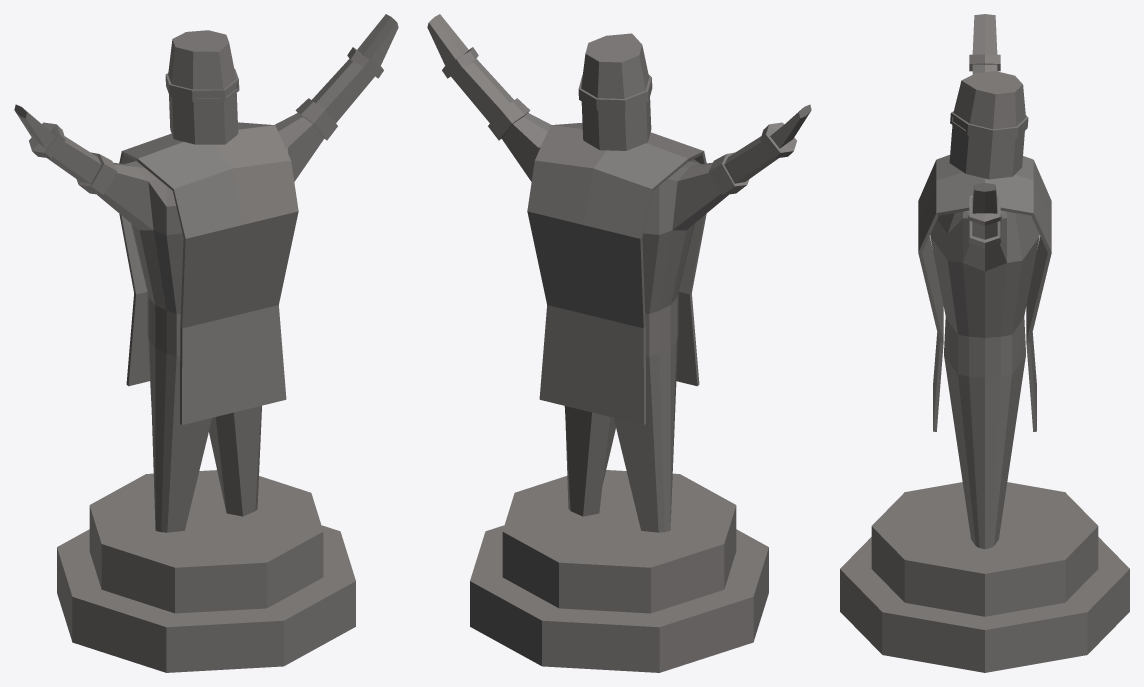
Rendered from Statue.fbx.
3 views of the same model, side by side, from view 1: azimuth 30°, elevation 25°; view 2: azimuth 150°, elevation 25°; view 3: azimuth 270°, elevation 25° (orthographic). The views are drawn at different scales.
Visible parts, largest first — view 1: Base.002, Helm, Arm2, Arm1; view 2: Base.002, Helm, Arm2, Arm1; view 3: Base.002, Helm, Arm2, Arm1.
Part boxes in pixels (bbox=[...]): Base.002: bbox=[57, 122, 355, 672]; Helm: bbox=[165, 30, 239, 144]; Arm2: bbox=[275, 14, 398, 181]; Arm1: bbox=[14, 104, 153, 230]; Base.002: bbox=[470, 122, 768, 672]; Helm: bbox=[578, 33, 652, 150]; Arm2: bbox=[427, 14, 550, 181]; Arm1: bbox=[672, 104, 811, 230]; Base.002: bbox=[840, 155, 1129, 672]; Helm: bbox=[949, 71, 1028, 179]; Arm2: bbox=[963, 183, 1006, 271]; Arm1: bbox=[969, 14, 1000, 74].
Bounding box in the file's own units: 107 × 155 × 76.7.
Materials: 1 (1 with a texture image).
